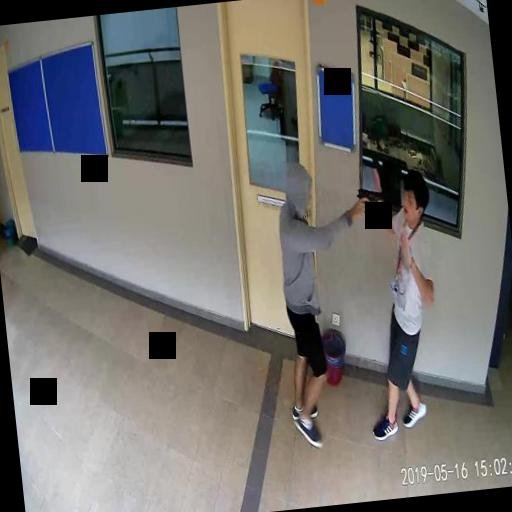Handgun: (356, 185, 384, 215)
